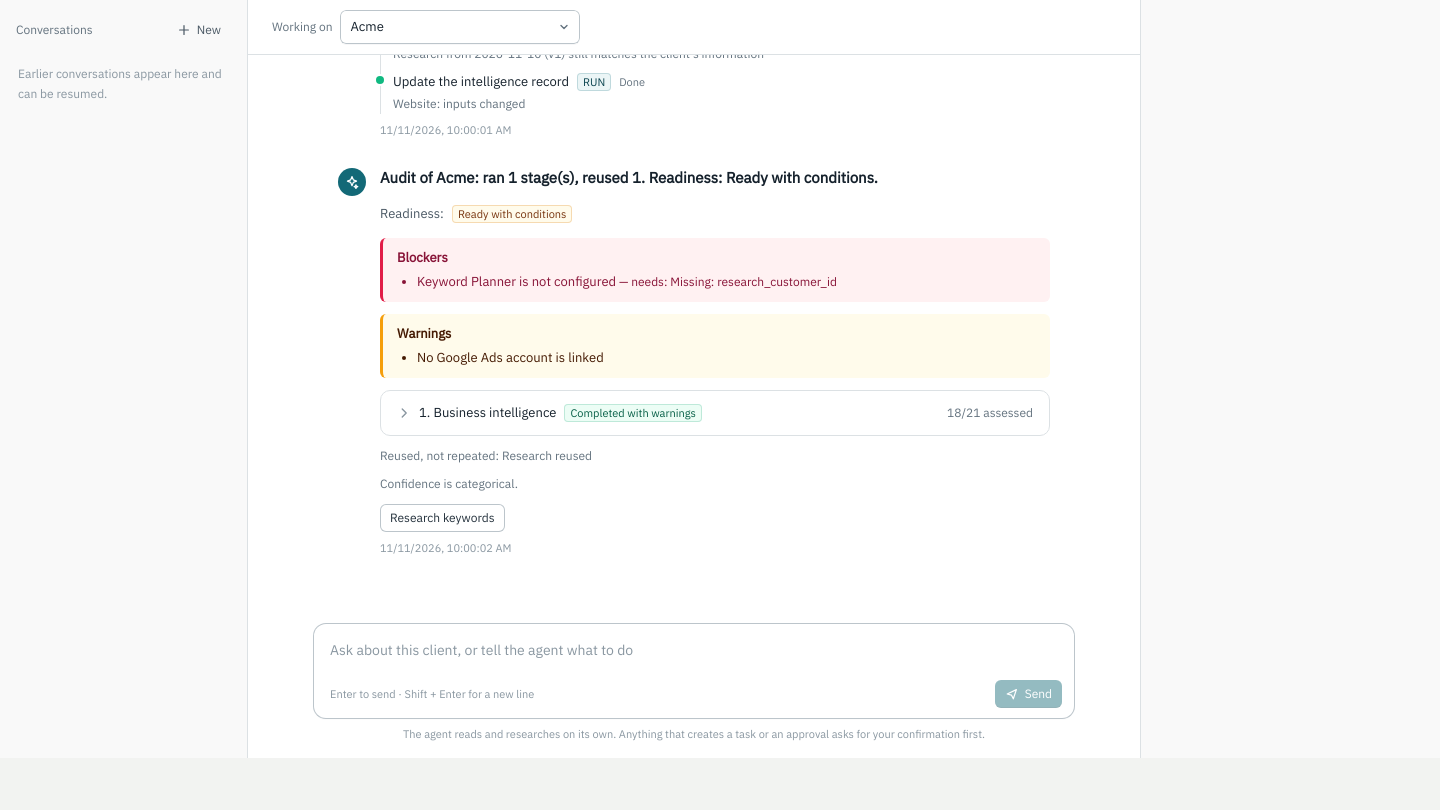
Test: Agent workspace › shows the plan with RUN / REUSE decisions and reasons, then the evidence, blockers and warnings
(page scrolled)
Expected: the text "RUN" is shown, [577,73,611,91]
Expected: the text "Blockers" is shown, [397,249,448,266]
Click the button "1. Business intelligence".
click(488, 412)  # box [381,391,1049,435]
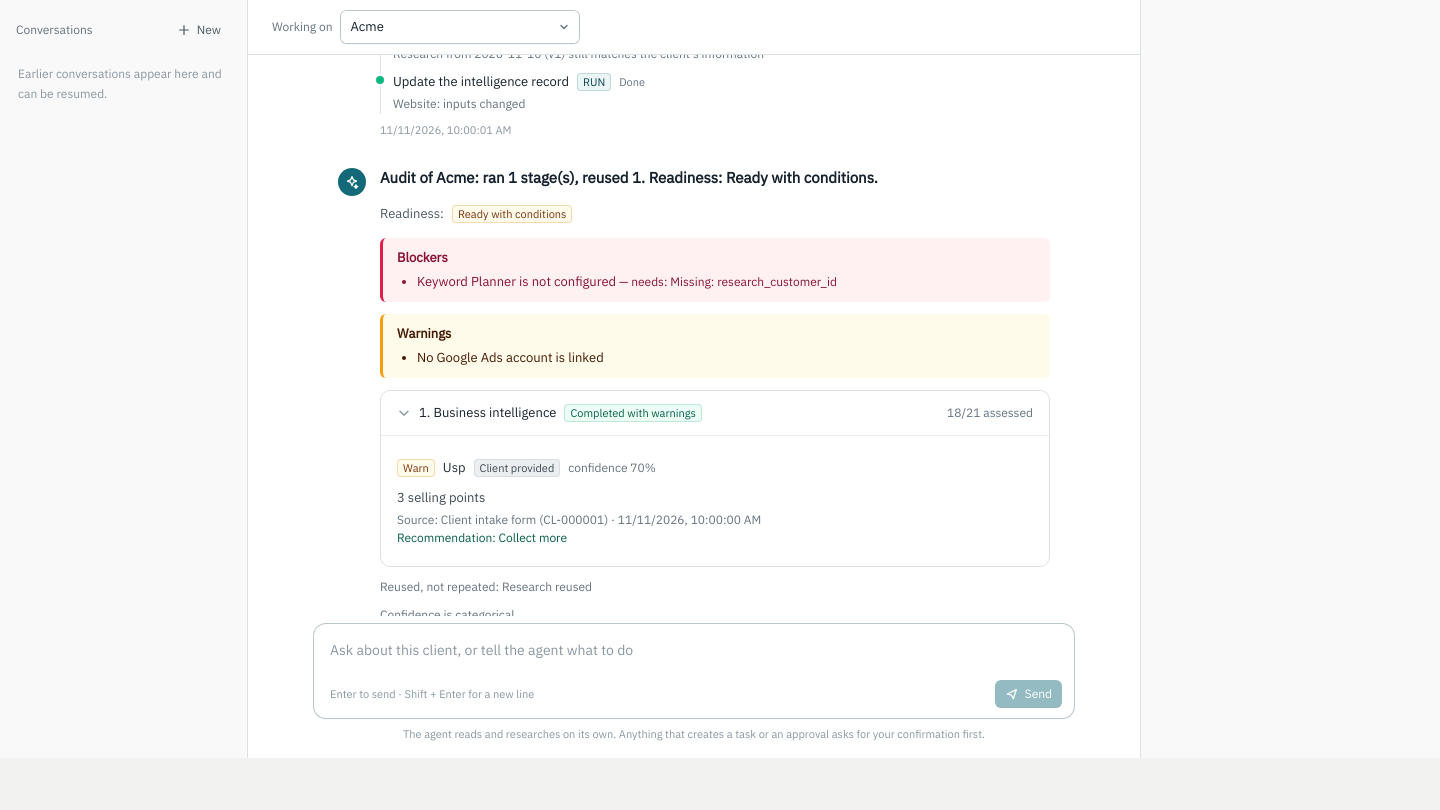
Now the text "3 selling points" is shown, box [397,489,485,506]
Now the text "Source: Client intake form" is shown, box [397,512,761,527]
Now the text "confidence 70%" is shown, box [568,460,656,476]
